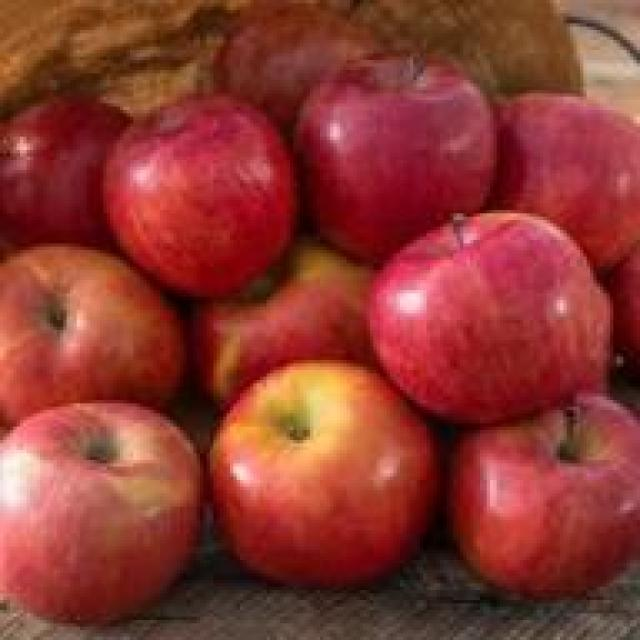apple: (197, 383, 443, 580), (300, 50, 507, 257), (376, 223, 606, 397), (110, 70, 290, 290), (10, 413, 193, 617), (460, 407, 640, 583), (463, 90, 637, 260), (204, 270, 374, 403), (3, 94, 110, 224)
